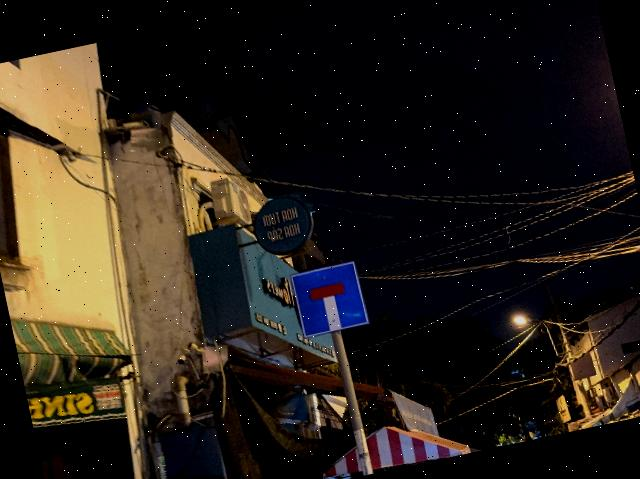duong-cut: (290, 260, 369, 338)
